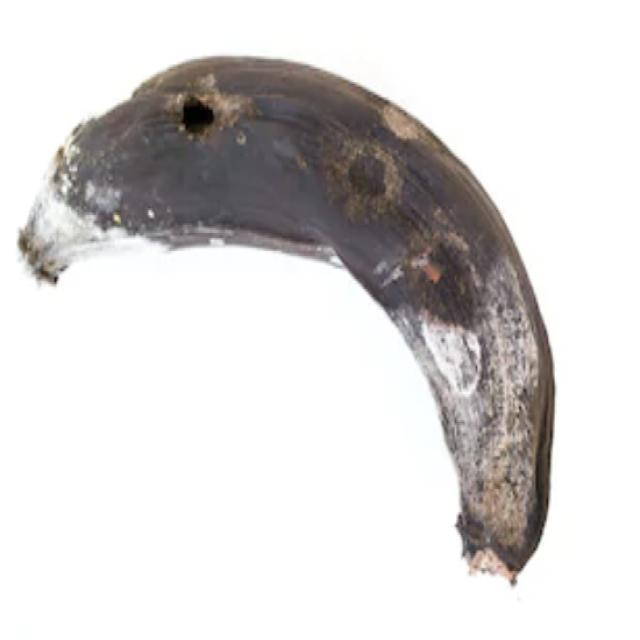rotten-banana: (16, 51, 556, 586)
